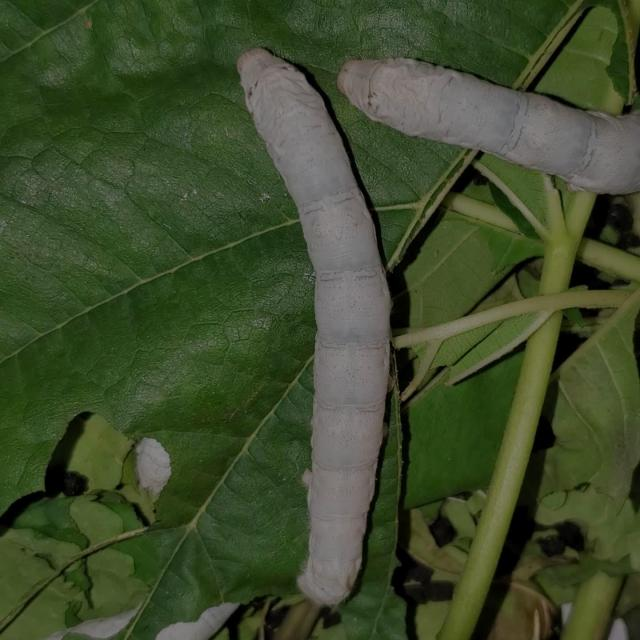Healthy: (186, 22, 417, 626)
